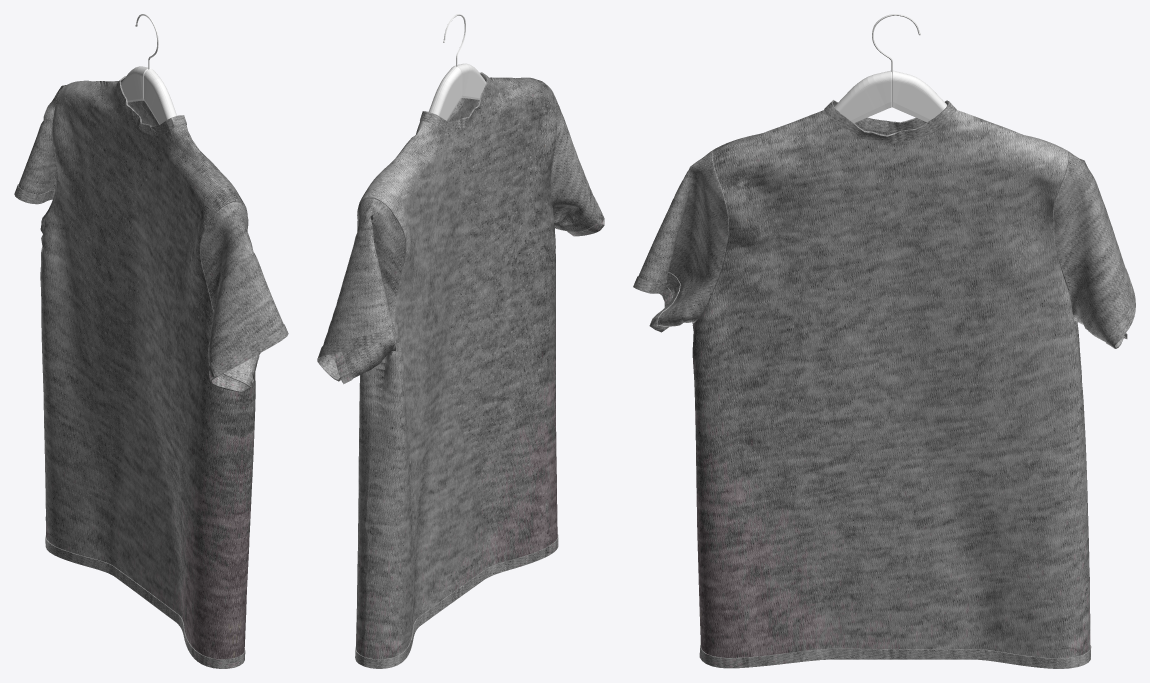
Rendered from H_Shirt-F&B.glb.
The picture shows the model from 3 angles, left to right: view 1: azimuth 30°, elevation 25°; view 2: azimuth 150°, elevation 25°; view 3: azimuth 270°, elevation 25°; orthographic projection. The views are drawn at different scales.
Parts seen in each view (by area): view 1: Shirt_Back, Shirt_Front, model__138; view 2: Shirt_Back, Shirt_Front, model__138; view 3: Shirt_Front, model__138, Shirt_Back.
Part boxes in pixels (<box>): Shirt_Back: <box>14,80,281,668</box>; Shirt_Front: <box>18,76,288,668</box>; model__138: <box>121,14,176,124</box>; Shirt_Back: <box>340,77,604,668</box>; Shirt_Front: <box>317,72,604,667</box>; model__138: <box>429,14,486,120</box>; Shirt_Front: <box>633,100,1135,668</box>; model__138: <box>834,14,946,122</box>; Shirt_Back: <box>649,120,1135,618</box>.
Size of the model in its own units: 0.037 by 0.2607 by 0.1843.
3 materials, 1 textured.
